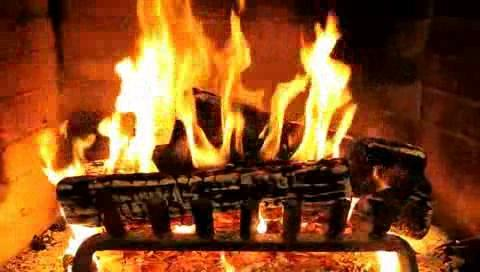fire: (100, 11, 353, 165)
